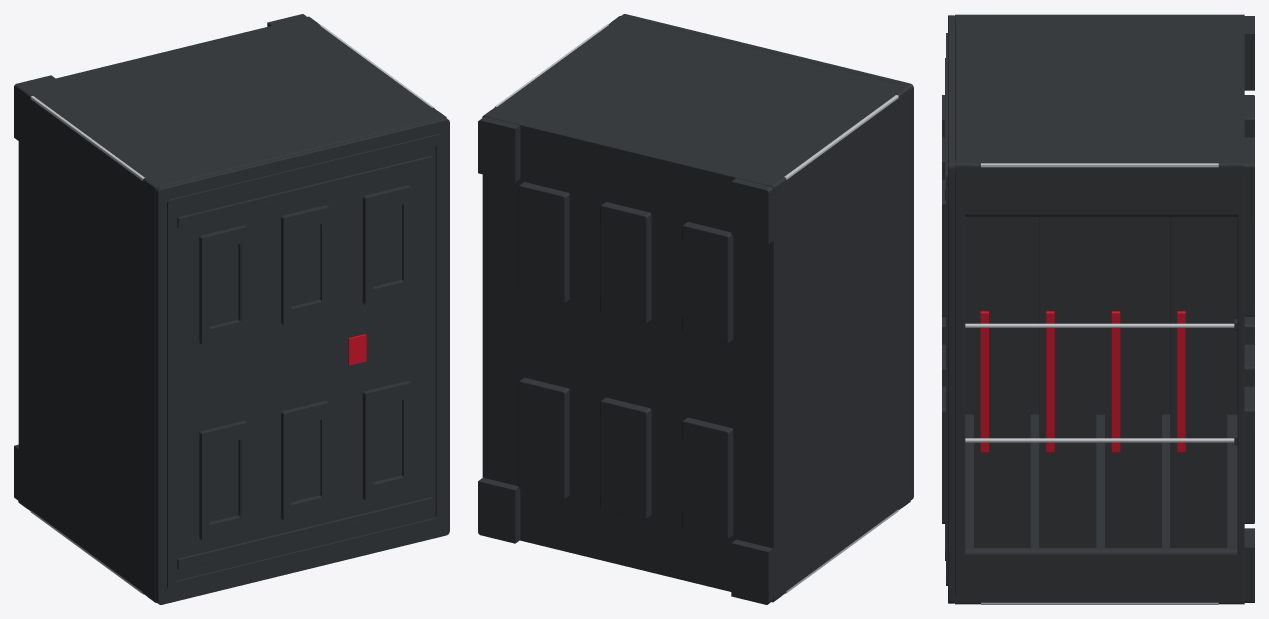
The picture shows the model from 3 angles, left to right: view 1: azimuth 30°, elevation 25°; view 2: azimuth 150°, elevation 25°; view 3: azimuth 270°, elevation 25°; orthographic projection. The views are drawn at different scales.
Parts seen in each view (by area): view 1: skrin-horni-panel, skrin-zadni-stena, skrin-bocnice-1, viko-prolis-obvod, skrin-bocnice--1, PACKOUT-horni-drazka-1-1, PACKOUT-horni-drazka-1--1, PACKOUT-horni-drazka-0--1, PACKOUT-horni-drazka--1--1, PACKOUT-horni-drazka--1-1, PACKOUT-horni-drazka-0-1, PACKOUT-lista--231.23999999999998 (+6 smaller); view 2: skrin-zadni-stena, skrin-dno, skrin-bocnice-1, skrin-bocnice--1, PACKOUT-spodni-patka--1-1, PACKOUT-spodni-patka-0--1, PACKOUT-spodni-patka-0-1, PACKOUT-spodni-patka-1--1, PACKOUT-spodni-patka-1-1, PACKOUT-spodni-patka--1--1, skrin-horni-panel, patka--1-1 (+8 smaller); view 3: skrin-bocnice-1, skrin-bocnice--1, zasuvka-3-celo, zasuvka-1-celo, zasuvka-2-celo, zasuvka-0-celo, skrin-zadni-stena, skrin-strop, skrin-horni-panel, skrin-dno, roh-ochrana-1-1, roh-ochrana-1--1 (+21 smaller).
Part boxes in pixels (x1=…): skrin-horni-panel: x1=155, y1=117, x2=449, y2=604; skrin-zadni-stena: x1=18, y1=82, x2=179, y2=598; skrin-bocnice-1: x1=19, y1=17, x2=441, y2=232; viko-prolis-obvod: x1=167, y1=134, x2=442, y2=591; skrin-bocnice--1: x1=18, y1=460, x2=154, y2=596; PACKOUT-horni-drazka-1-1: x1=362, y1=185, x2=412, y2=305; PACKOUT-horni-drazka-1--1: x1=362, y1=381, x2=412, y2=501; PACKOUT-horni-drazka-0--1: x1=281, y1=401, x2=330, y2=521; PACKOUT-horni-drazka--1--1: x1=199, y1=420, x2=248, y2=541; PACKOUT-horni-drazka--1-1: x1=199, y1=225, x2=248, y2=345; PACKOUT-horni-drazka-0-1: x1=281, y1=205, x2=330, y2=325; PACKOUT-lista--231.23999999999998: x1=177, y1=497, x2=432, y2=569; skrin-zadni-stena: x1=747, y1=81, x2=910, y2=597; skrin-dno: x1=482, y1=114, x2=776, y2=598; skrin-bocnice-1: x1=487, y1=17, x2=905, y2=225; skrin-bocnice--1: x1=520, y1=499, x2=731, y2=591; PACKOUT-spodni-patka--1-1: x1=682, y1=222, x2=733, y2=343; PACKOUT-spodni-patka-0--1: x1=600, y1=397, x2=651, y2=519; PACKOUT-spodni-patka-0-1: x1=600, y1=202, x2=651, y2=323; PACKOUT-spodni-patka-1--1: x1=518, y1=377, x2=569, y2=499; PACKOUT-spodni-patka-1-1: x1=518, y1=182, x2=569, y2=303; PACKOUT-spodni-patka--1--1: x1=682, y1=417, x2=733, y2=539; skrin-horni-panel: x1=621, y1=14, x2=913, y2=499; patka--1-1: x1=731, y1=178, x2=773, y2=243; skrin-bocnice-1: x1=955, y1=16, x2=1243, y2=216; skrin-bocnice--1: x1=955, y1=414, x2=1243, y2=598; zasuvka-3-celo: x1=1170, y1=217, x2=1227, y2=547; zasuvka-1-celo: x1=1039, y1=217, x2=1096, y2=547; zasuvka-2-celo: x1=1105, y1=217, x2=1161, y2=547; zasuvka-0-celo: x1=974, y1=217, x2=1030, y2=547; skrin-zadni-stena: x1=955, y1=16, x2=1243, y2=414; skrin-strop: x1=955, y1=15, x2=965, y2=601; skrin-horni-panel: x1=948, y1=15, x2=954, y2=603; skrin-dno: x1=1237, y1=15, x2=1244, y2=600; roh-ochrana-1-1: x1=955, y1=160, x2=1244, y2=174; roh-ochrana-1--1: x1=955, y1=595, x2=1244, y2=604.
Bounding box in the file's own units: 414 × 564 × 363.
